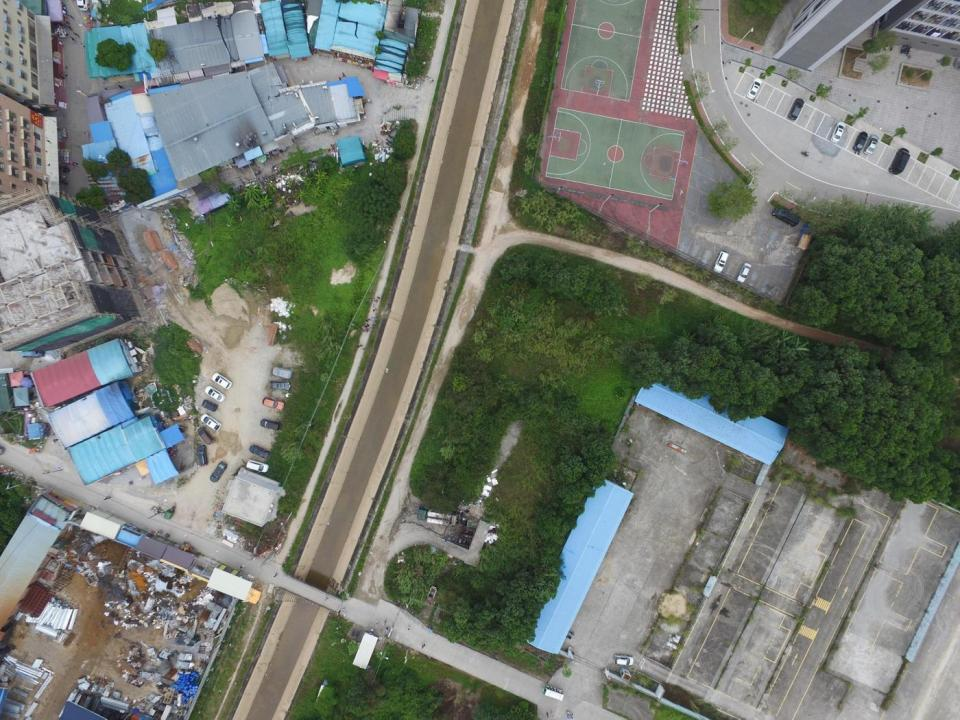bus: (541, 684, 564, 702)
car: (772, 206, 802, 227), (889, 146, 910, 176), (209, 461, 227, 483), (200, 413, 222, 431), (736, 261, 753, 284), (829, 121, 846, 144), (211, 373, 233, 390), (788, 97, 804, 120), (204, 386, 225, 403), (746, 78, 763, 99), (852, 130, 868, 152), (712, 250, 727, 273), (248, 444, 269, 459), (246, 459, 270, 472), (262, 396, 284, 410), (864, 134, 878, 156), (196, 444, 208, 467), (272, 366, 293, 379), (267, 380, 291, 391), (614, 653, 634, 666), (201, 399, 218, 412), (75, 0, 90, 11)
truck: (416, 506, 472, 530), (795, 222, 813, 250)
van: (197, 426, 214, 445), (260, 419, 280, 432)
